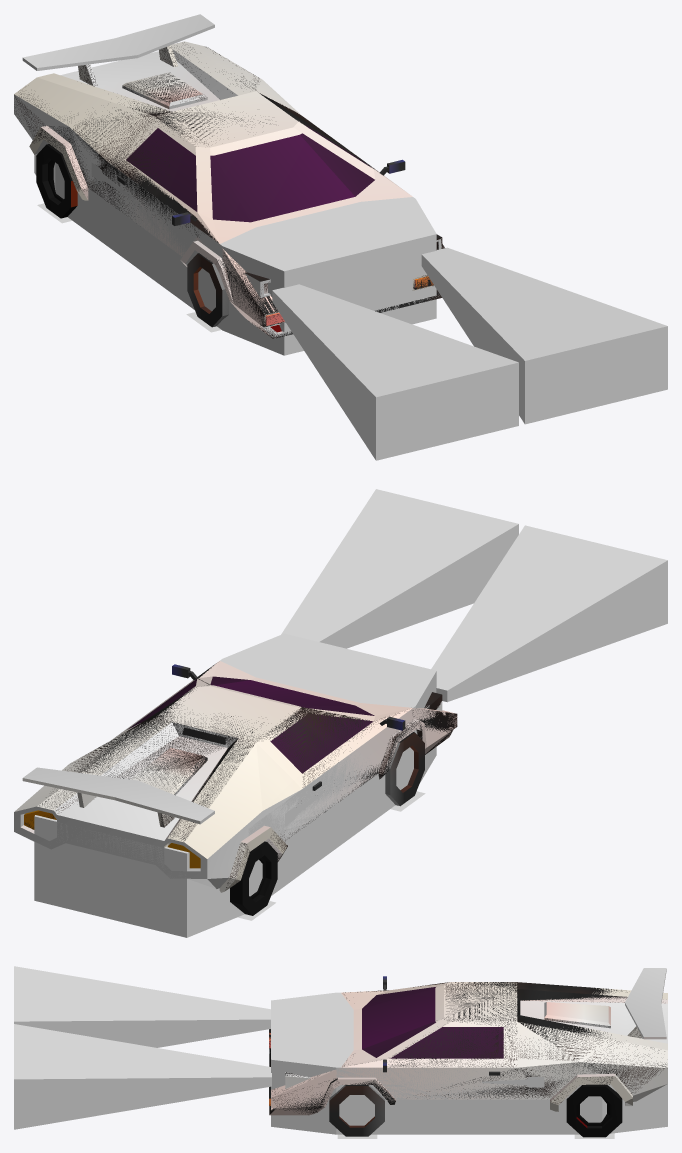
File: Montana.fbx
3 renders of one model, top to bottom at view 1: azimuth 30°, elevation 25°; view 2: azimuth 150°, elevation 25°; view 3: azimuth 270°, elevation 25°, orthographic. The views are drawn at different scales.
Visible parts, largest first — view 1: montana, montana_gr, montana_cldr, montana_dead, montana_lckd, montana_frontwheels; view 2: montana, montana_gr, montana_cldr, montana_dead, montana_lckd, montana_frontwheels; view 3: montana, montana_gr, montana_cldr, montana_dead, montana_lckd, montana_frontwheels, TireSmokeMesh.
Boxes of the visible parts, x1,y1,x2,y2 form: montana: [14, 14, 441, 338]; montana_gr: [272, 247, 667, 460]; montana_cldr: [34, 129, 436, 355]; montana_dead: [14, 42, 444, 338]; montana_lckd: [36, 144, 77, 218]; montana_frontwheels: [187, 253, 228, 327]; montana: [14, 661, 457, 892]; montana_gr: [281, 489, 667, 702]; montana_cldr: [34, 633, 436, 937]; montana_dead: [25, 664, 457, 890]; montana_lckd: [230, 841, 277, 915]; montana_frontwheels: [385, 732, 424, 806]; montana: [269, 968, 667, 1115]; montana_gr: [14, 966, 271, 1129]; montana_cldr: [271, 992, 667, 1134]; montana_dead: [269, 982, 667, 1114]; montana_lckd: [566, 1084, 622, 1137]; montana_frontwheels: [329, 1085, 384, 1136]; TireSmokeMesh: [337, 1133, 614, 1138].
Bounding box in the file's own units: 5.72 × 2.24 × 13.95.
